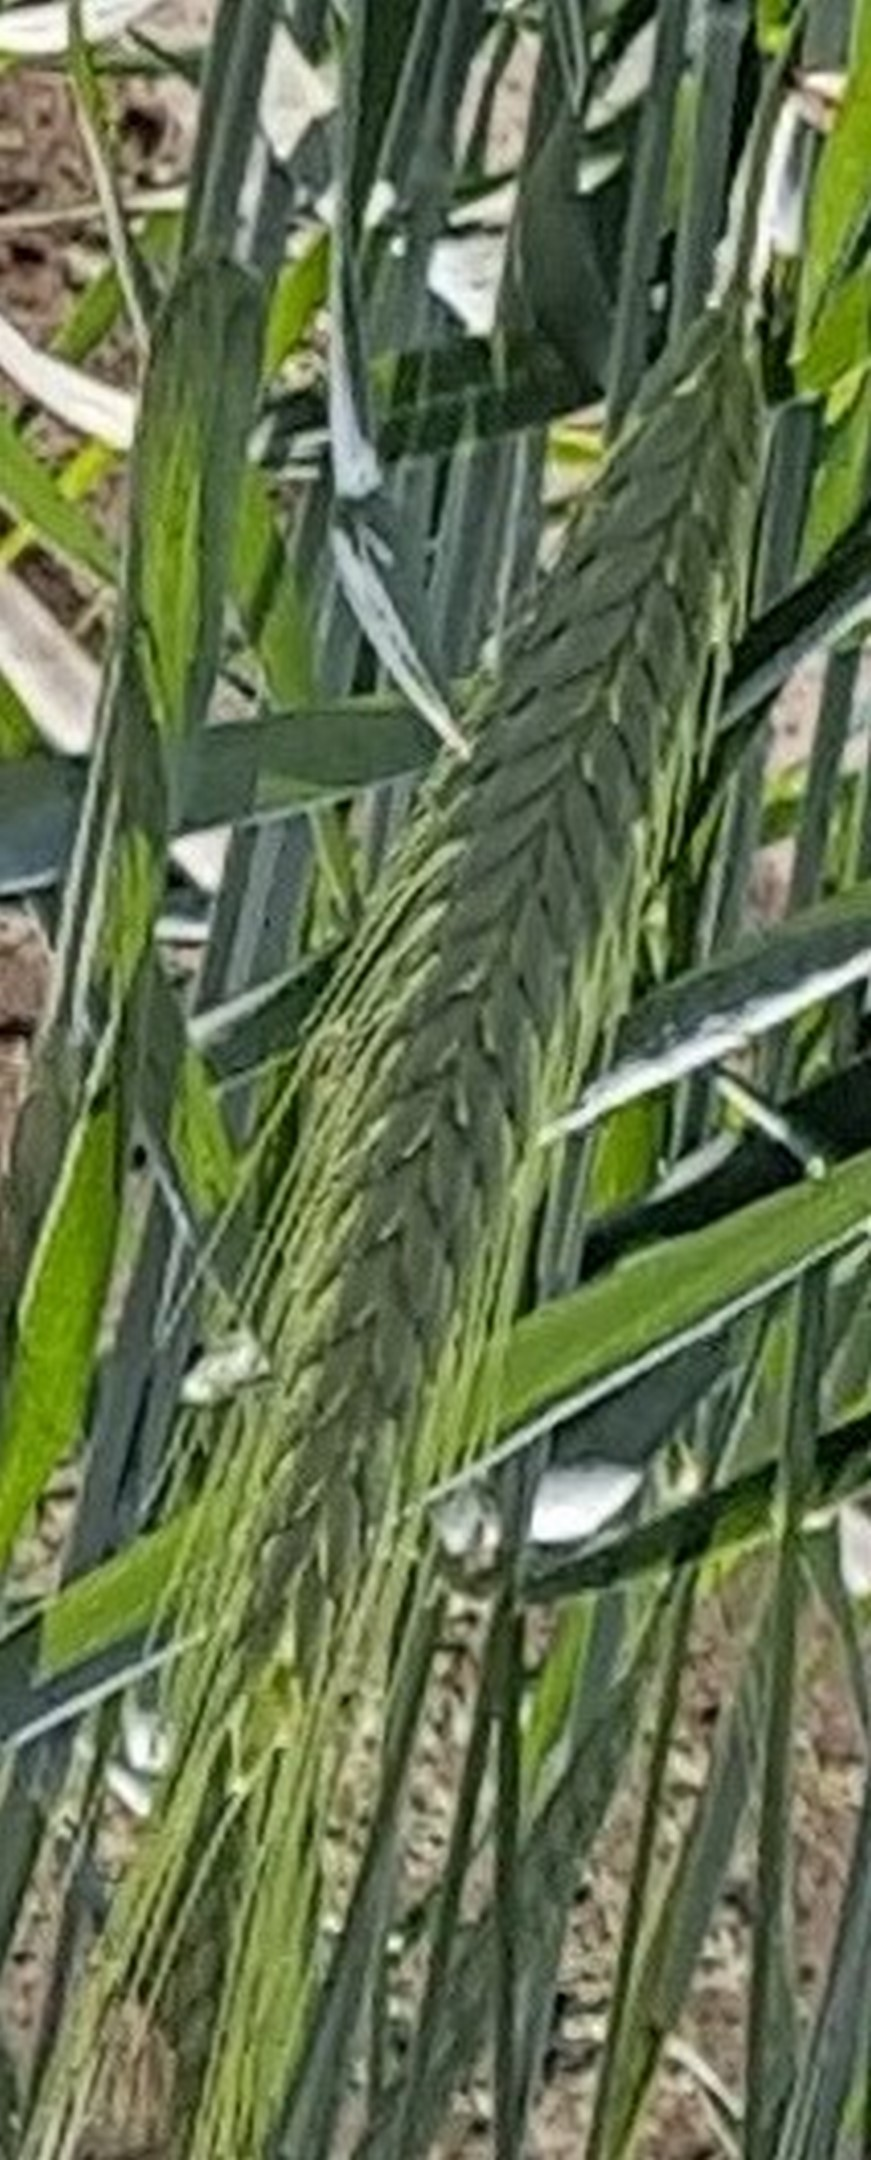Healthy Wheat: (234, 310, 776, 1665)
